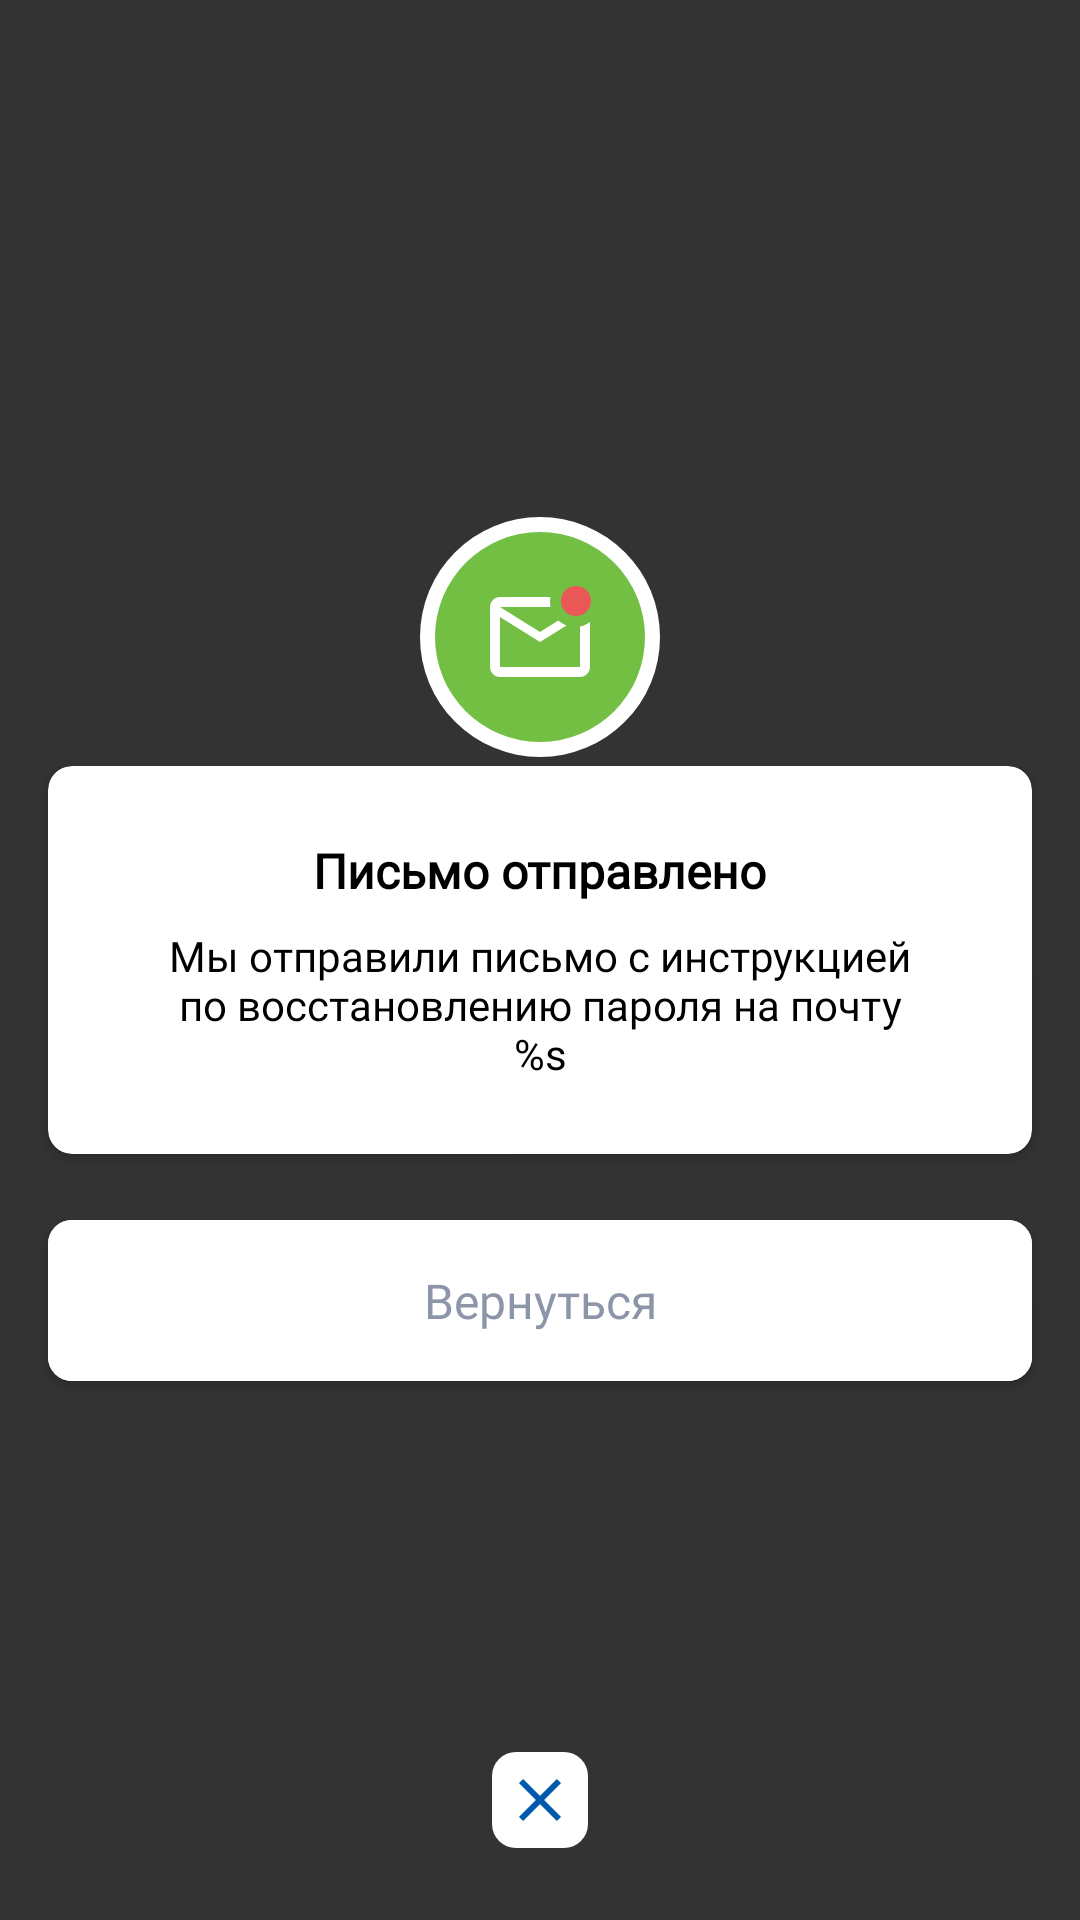

Where icons sit on this 1080×1920 app screen, as (x1, y1, x2, y2):
close in rect: (492, 1752, 588, 1848)
send letter: (420, 517, 660, 757)
